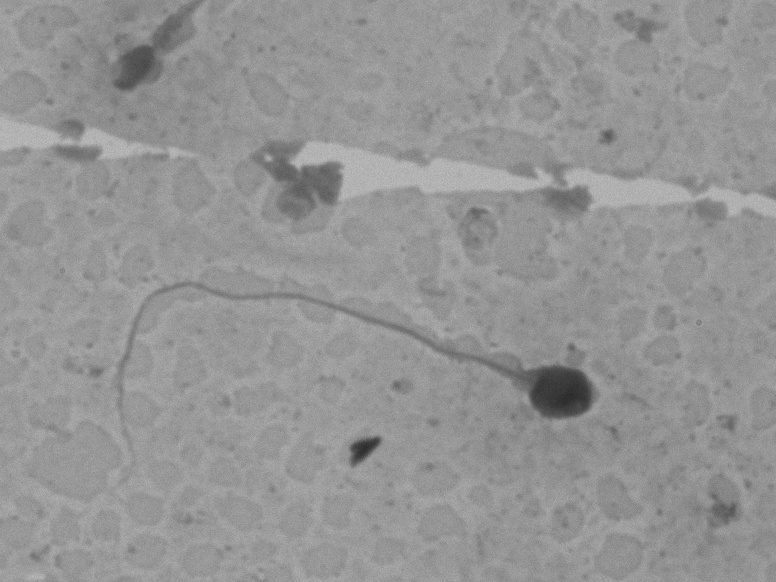Abnormal: (90, 245, 622, 493)
